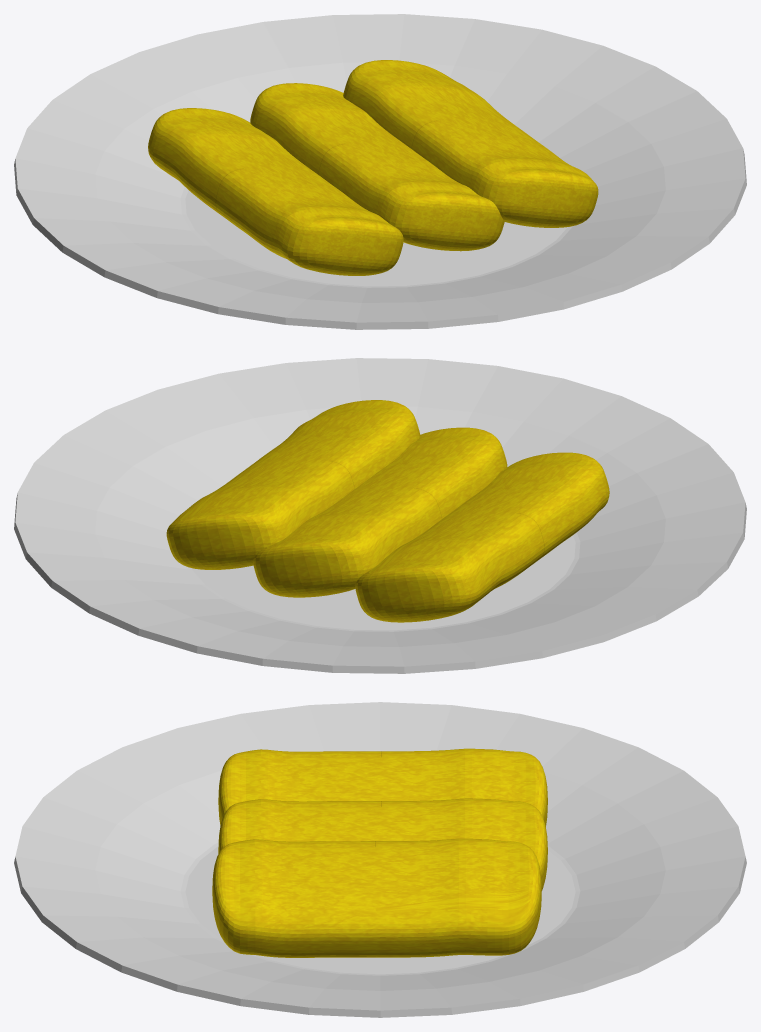
Rendered from egg__roll.fbx.
3 renders of one model, top to bottom at view 1: azimuth 30°, elevation 25°; view 2: azimuth 150°, elevation 25°; view 3: azimuth 270°, elevation 25°, orthographic.
Visible parts, largest first — view 1: 원형.023, 계란; view 2: 원형.023, 계란; view 3: 원형.023, 계란.
Boxes of the visible parts, box(x1,y1,x2,y2) form: 원형.023: box(14, 14, 746, 329); 계란: box(148, 60, 598, 275); 원형.023: box(14, 358, 746, 673); 계란: box(166, 400, 609, 622); 원형.023: box(14, 702, 746, 1017); 계란: box(212, 748, 547, 957).
Size of the model in its own units: 293 by 41.27 by 293.
